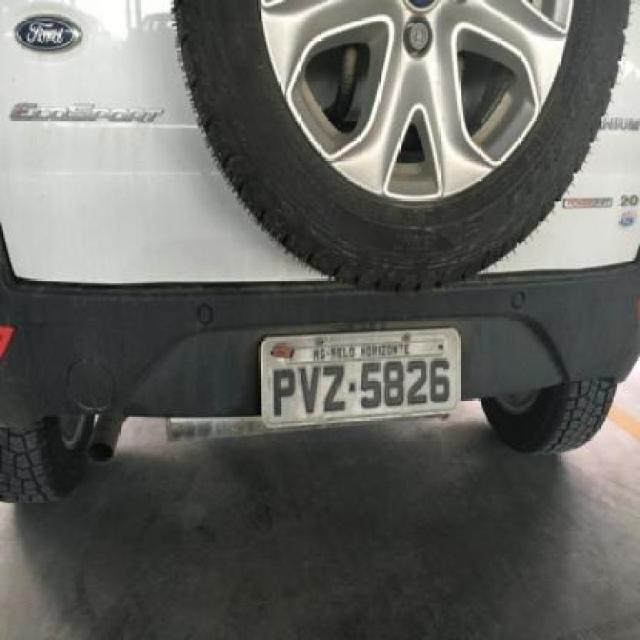old_plate: (255, 322, 470, 436)
